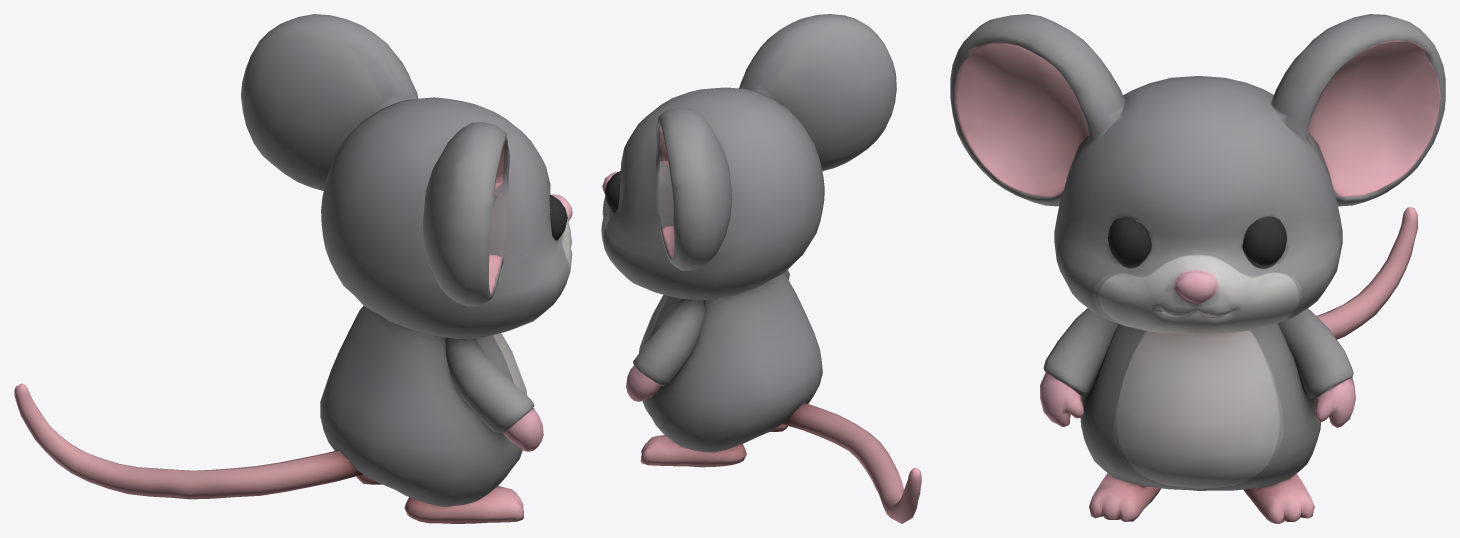
File: rat.glb
3 renders of one model, left to right at view 1: azimuth 30°, elevation 25°; view 2: azimuth 150°, elevation 25°; view 3: azimuth 270°, elevation 25°, orthographic. The views are drawn at different scales.
Visible parts, largest first — view 1: tripo_node_c173b6ba-f33f-4dbd-a7dc-8c4f5ff2a7ce; view 2: tripo_node_c173b6ba-f33f-4dbd-a7dc-8c4f5ff2a7ce; view 3: tripo_node_c173b6ba-f33f-4dbd-a7dc-8c4f5ff2a7ce.
Boxes of the visible parts, left/top/right/bottom form: tripo_node_c173b6ba-f33f-4dbd-a7dc-8c4f5ff2a7ce: left=14, top=14, right=572, bottom=523; tripo_node_c173b6ba-f33f-4dbd-a7dc-8c4f5ff2a7ce: left=601, top=14, right=921, bottom=523; tripo_node_c173b6ba-f33f-4dbd-a7dc-8c4f5ff2a7ce: left=950, top=14, right=1445, bottom=523.
Bounding box in the file's own units: 0.998 × 0.9004 × 0.873.
1 material, 1 textured.
